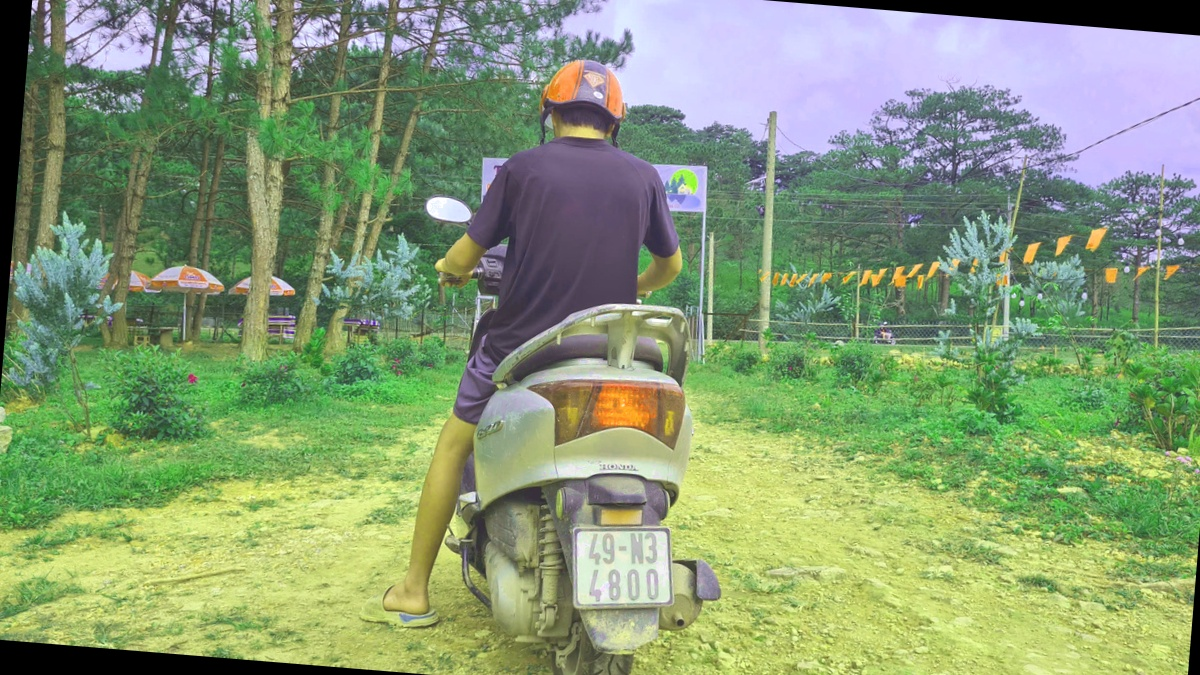Bien-so: (549, 508, 653, 606)
